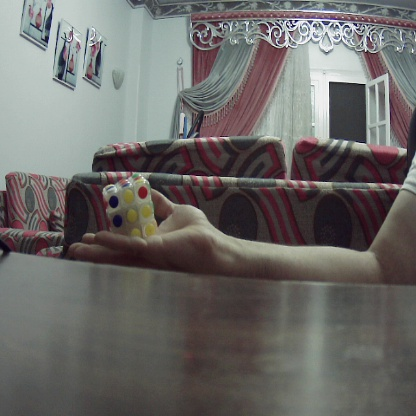Rubix Cube: (97, 176, 160, 237)
